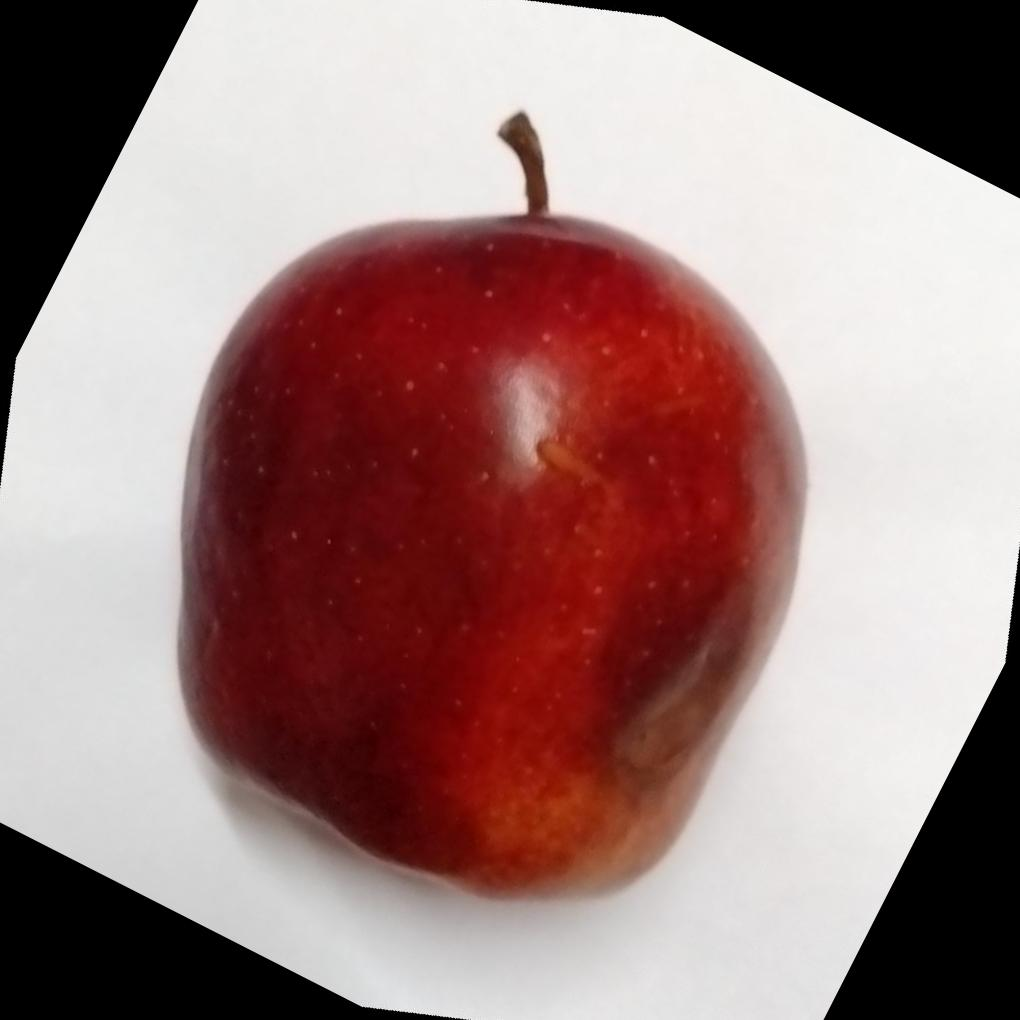FreshOrange: (176, 207, 812, 905)
